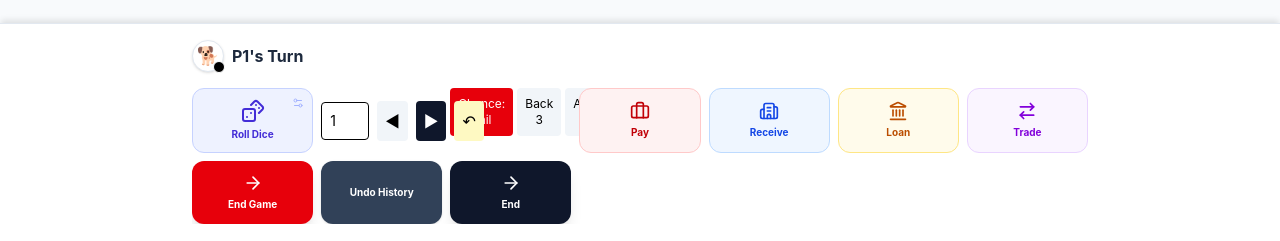
Test case: ActionCenter manual move and chance › moves player forward by specified steps and shows landing info
Replace the text in the number field with "3" at coordinates (345, 120), box [321,102,369,140]
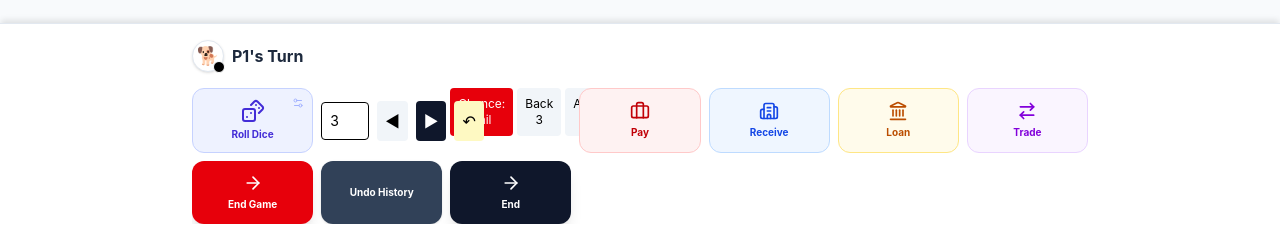
Click the button titled "Move Forward" at coordinates (431, 120), box [416,100,446,140]
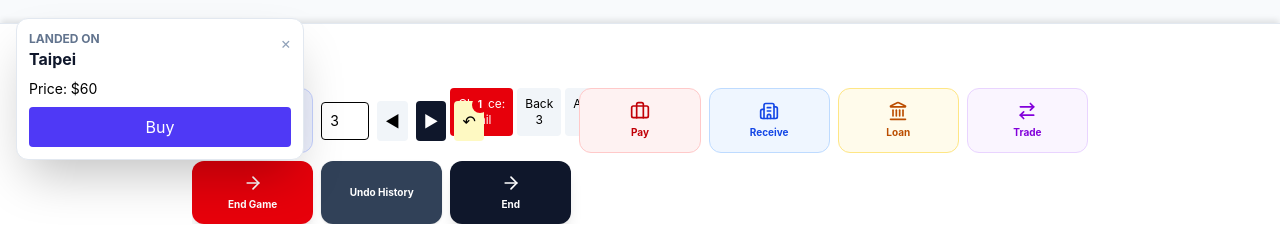
Check: the text "Taipei" is shown, box [29,49,76,69]
